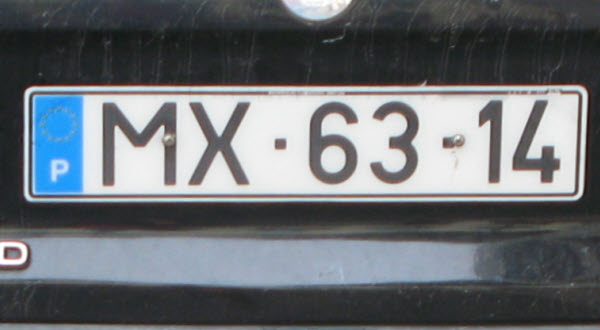license_plate: (25, 85, 584, 203)
